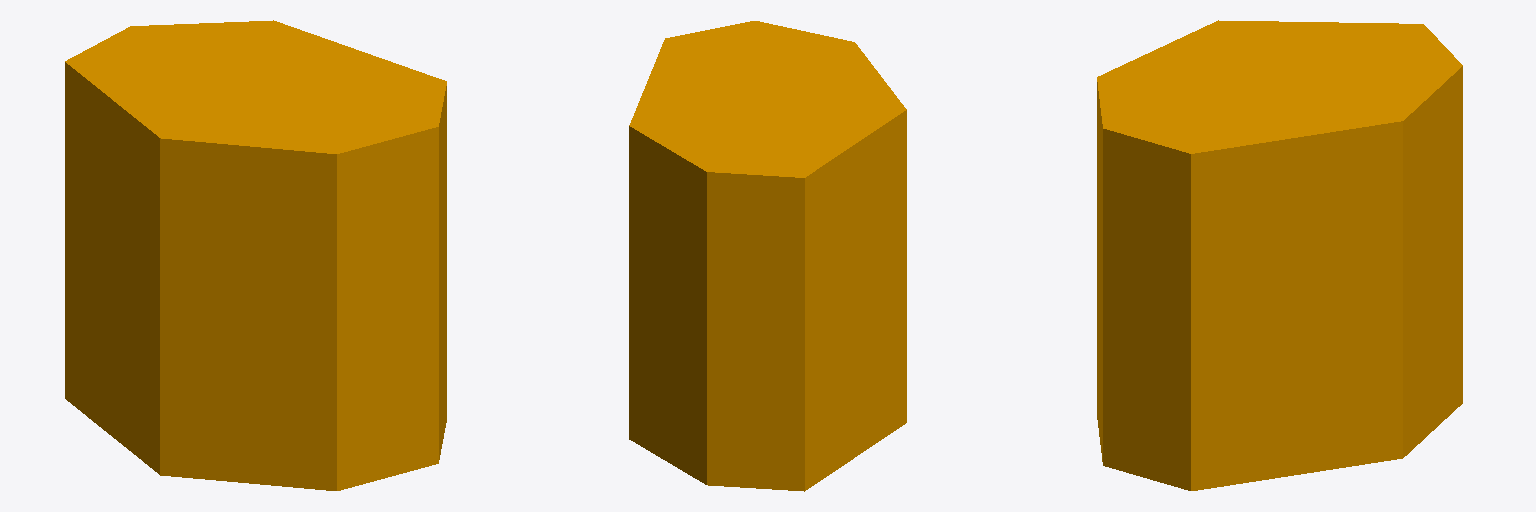
URDF robot description (object):
<?xml version="1.0"?>
<robot name="object">
  <link name="object">
    <visual>
      <origin xyz="0 0 0"/>
      <geometry>
        <mesh filename="meshes/generated/col_044.obj" scale="0.03 0.03 0.03"/>
      </geometry>
    </visual>
    <collision>
      <origin xyz="0 0 0"/>
      <geometry>
        <mesh filename="meshes/generated/col_044.obj" scale="0.03 0.03 0.03"/>
      </geometry>
    </collision>
    <inertial>
      <density value="1000.0"/>
    </inertial>
  </link>
</robot>

--- Facts derived from the render (not from the file) ---
The picture shows the robot from 3 angles, left to right: view 1: azimuth 30°, elevation 25°; view 2: azimuth 150°, elevation 25°; view 3: azimuth 270°, elevation 25°; orthographic projection.
Model object with 1 links and 0 joints (none), rooted at object, posed every joint at zero.
Links seen in each view (by area): view 1: object; view 2: object; view 3: object.
Link boxes in pixels (x1,y1,x2,y2): object: (65, 20, 446, 490); object: (629, 21, 906, 491); object: (1097, 20, 1462, 490).
Size in the robot's own frame: 0.0509 by 0.059 by 0.06 metres.
Meshes: 1 distinct files referenced, 1 mesh visuals loaded (1 OBJ).
